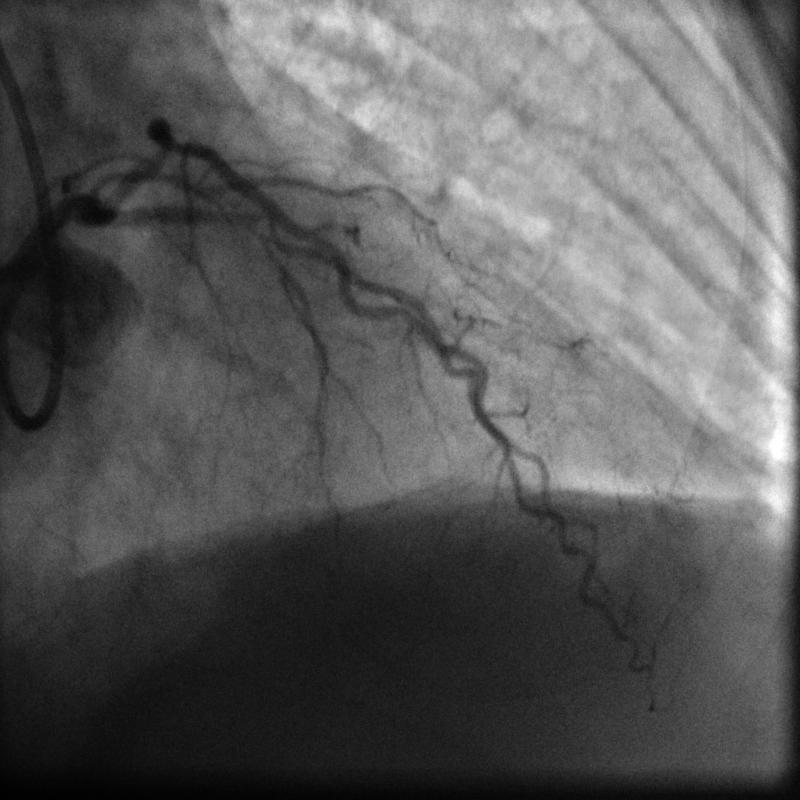Stenosis: (218, 200, 274, 236)
